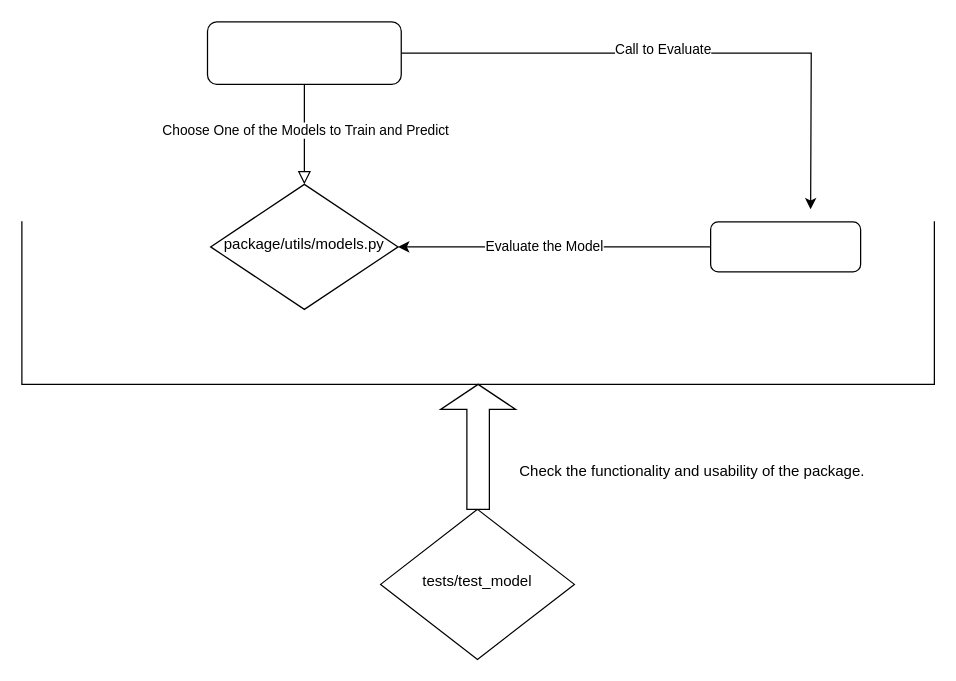
The diagram is 956 pixels wide and 681 high, and some of its shapes have lost their labels. The shapes that lost their labels are listed below. From the top down, each one's centre as x and y in pixels, then its label:
[303,52]: package/bins/main
[785,246]: package/toxic/eval.py
